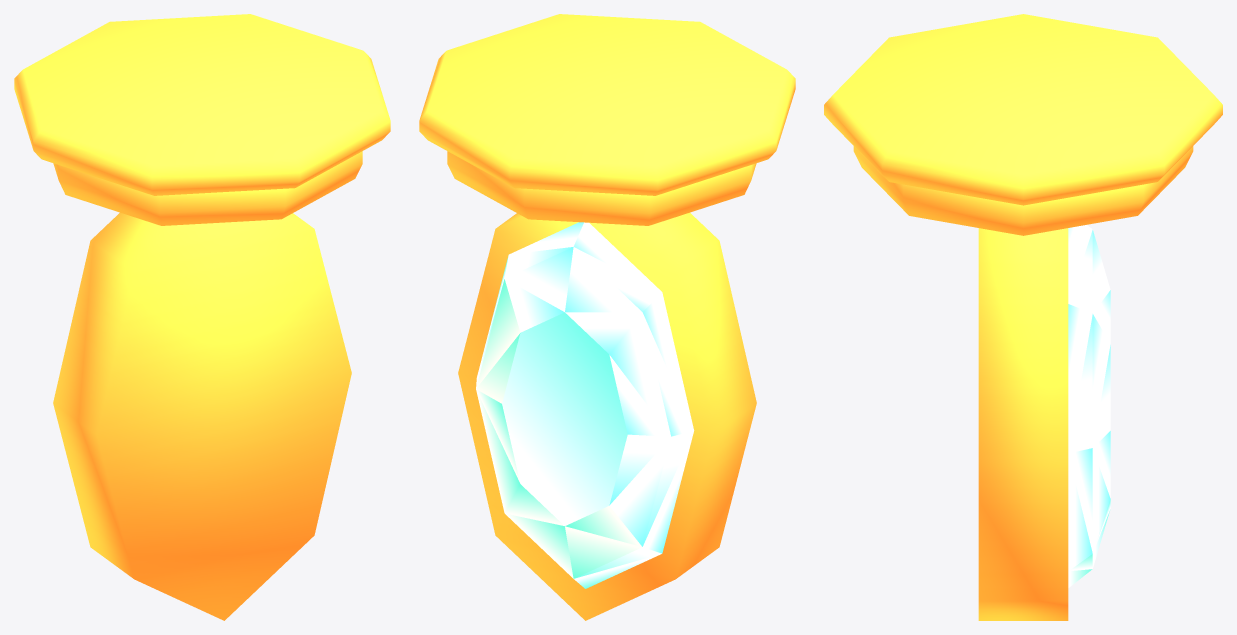
File: gold_pommel_042.glb
3 renders of one model, left to right at view 1: azimuth 30°, elevation 25°; view 2: azimuth 150°, elevation 25°; view 3: azimuth 270°, elevation 25°, orthographic. The views are drawn at different scales.
Parts seen in each view (by area): view 1: gold_pommel_042; view 2: gold_pommel_042; view 3: gold_pommel_042.
Part boxes in pixels (x1=…): gold_pommel_042: x1=14, y1=14, x2=390, y2=620; gold_pommel_042: x1=419, y1=14, x2=795, y2=620; gold_pommel_042: x1=824, y1=14, x2=1222, y2=620.
Size of the model in its own units: 2.26 by 3.29 by 2.26.
1 material, 1 textured.
